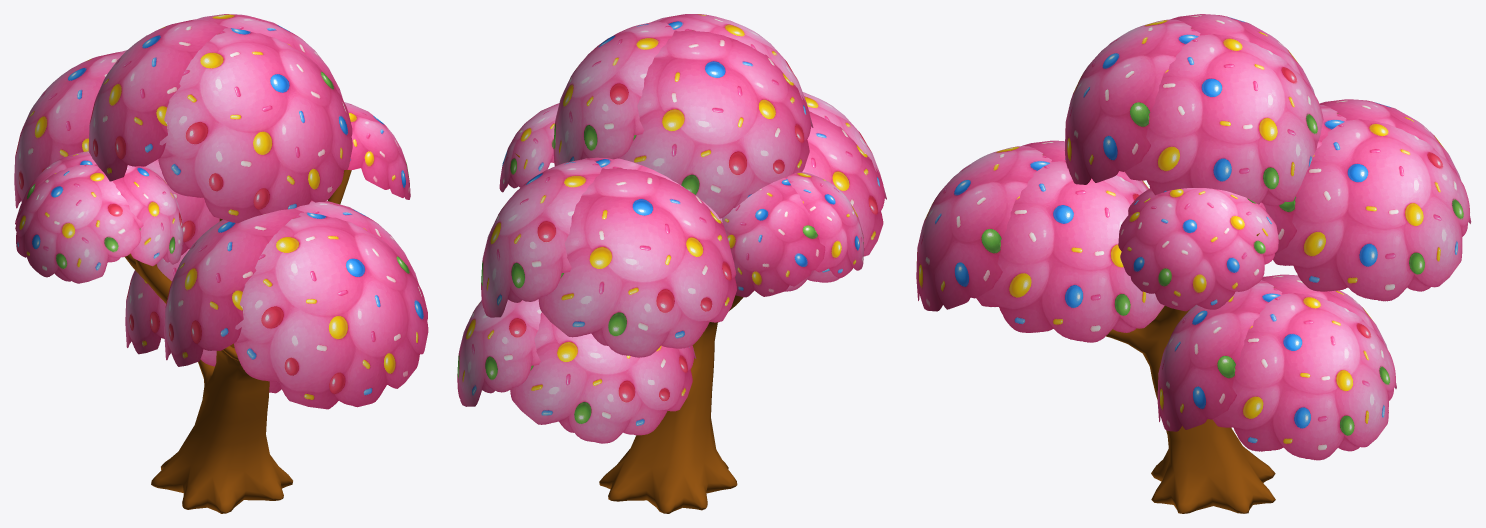
3 renders of one model, left to right at view 1: azimuth 30°, elevation 25°; view 2: azimuth 150°, elevation 25°; view 3: azimuth 270°, elevation 25°, orthographic. The views are drawn at different scales.
Parts seen in each view (by area): view 1: tree_06.002; view 2: tree_06.002; view 3: tree_06.002.
Part boxes in pixels (bbox=[...]): tree_06.002: bbox=[14, 14, 428, 513]; tree_06.002: bbox=[457, 14, 886, 513]; tree_06.002: bbox=[916, 14, 1471, 513].
Bounding box in the file's own units: 1.02 × 1.25 × 1.38.
2 materials, 1 textured.
